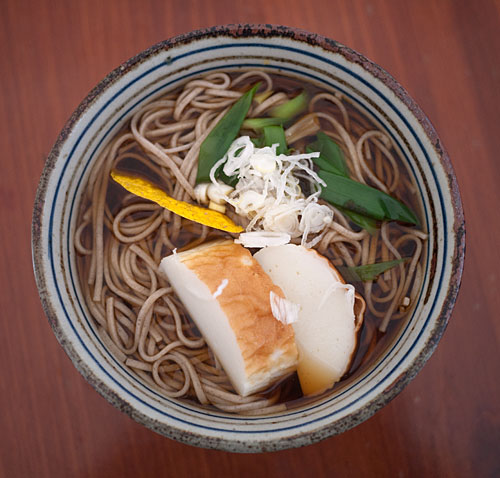Soba: (73, 61, 440, 426)
